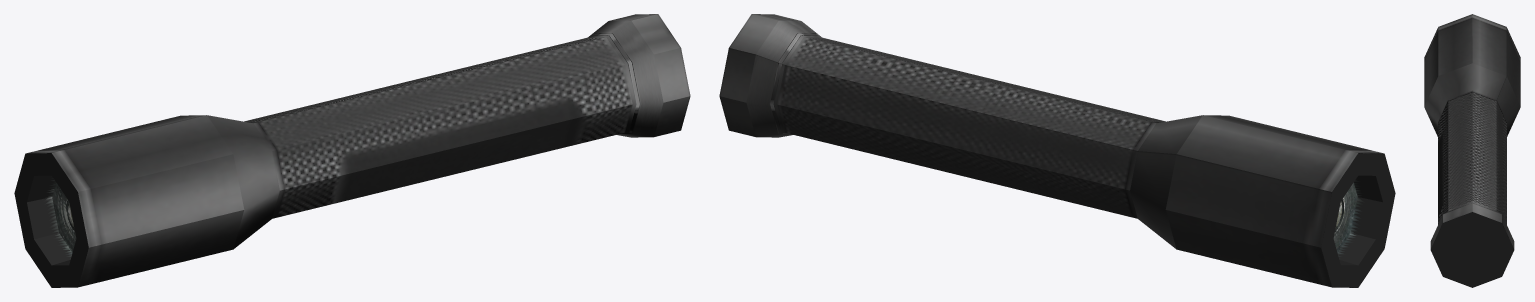
File: lanterna.fbx
3 renders of one model, left to right at view 1: azimuth 30°, elevation 25°; view 2: azimuth 150°, elevation 25°; view 3: azimuth 270°, elevation 25°, orthographic. The views are drawn at different scales.
Visible parts, largest first — view 1: pCylinder1; view 2: pCylinder1; view 3: pCylinder1.
Boxes of the visible parts, bbox=[...] form: pCylinder1: bbox=[14, 14, 690, 287]; pCylinder1: bbox=[719, 14, 1395, 287]; pCylinder1: bbox=[1424, 14, 1520, 287].
Bounding box in the file's own units: 1325 × 281 × 281.
Materials: 1 (1 with a texture image).
